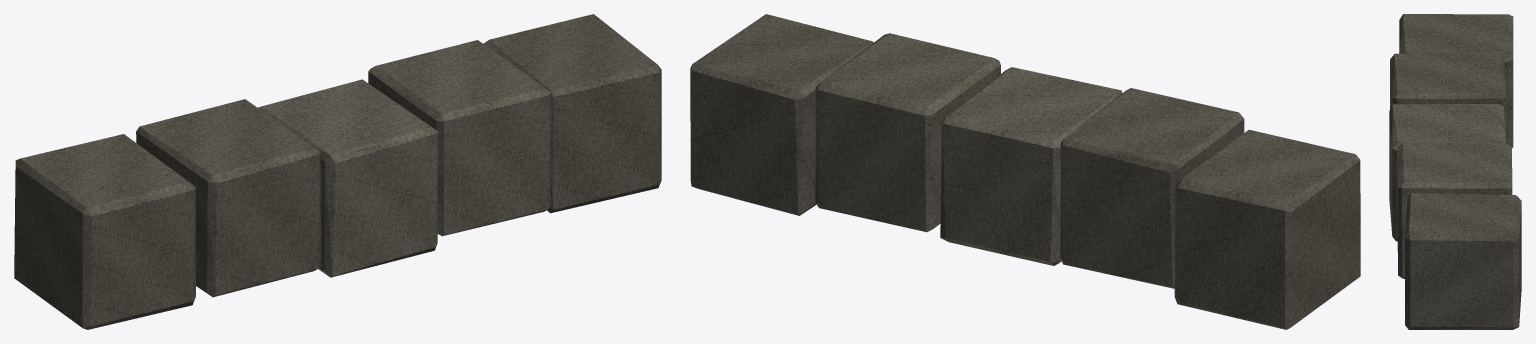
File: env_ruin_pillars_10_fallen_column.glb
3 views of the same model, side by side, from view 1: azimuth 30°, elevation 25°; view 2: azimuth 150°, elevation 25°; view 3: azimuth 270°, elevation 25° (orthographic). The views are drawn at different scales.
Size of the model in its own units: 2 by 0.425 by 0.4988.
1 material, 1 textured.
